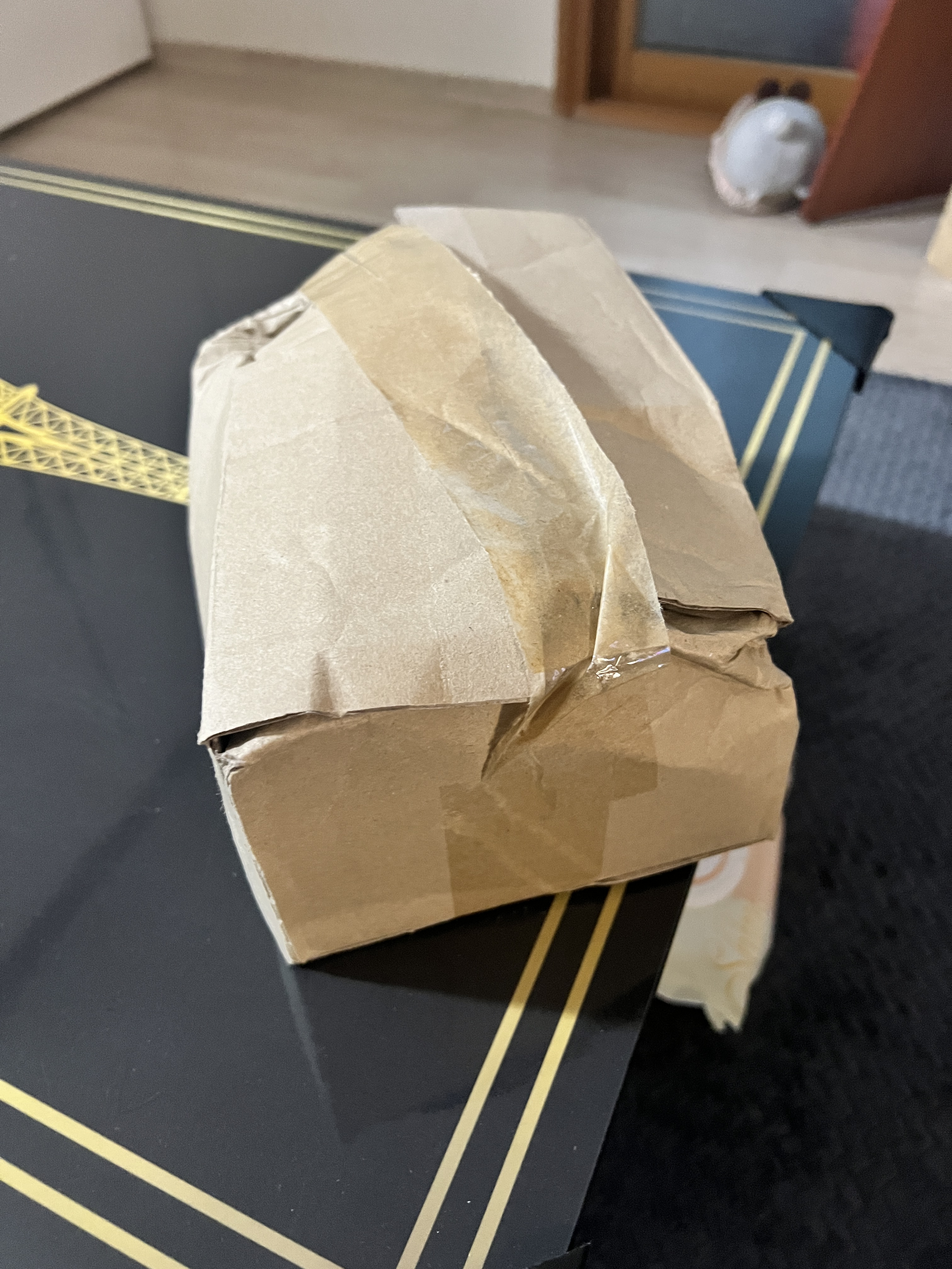damaged package: (465, 537, 805, 818), (196, 224, 440, 388), (198, 681, 345, 801)
